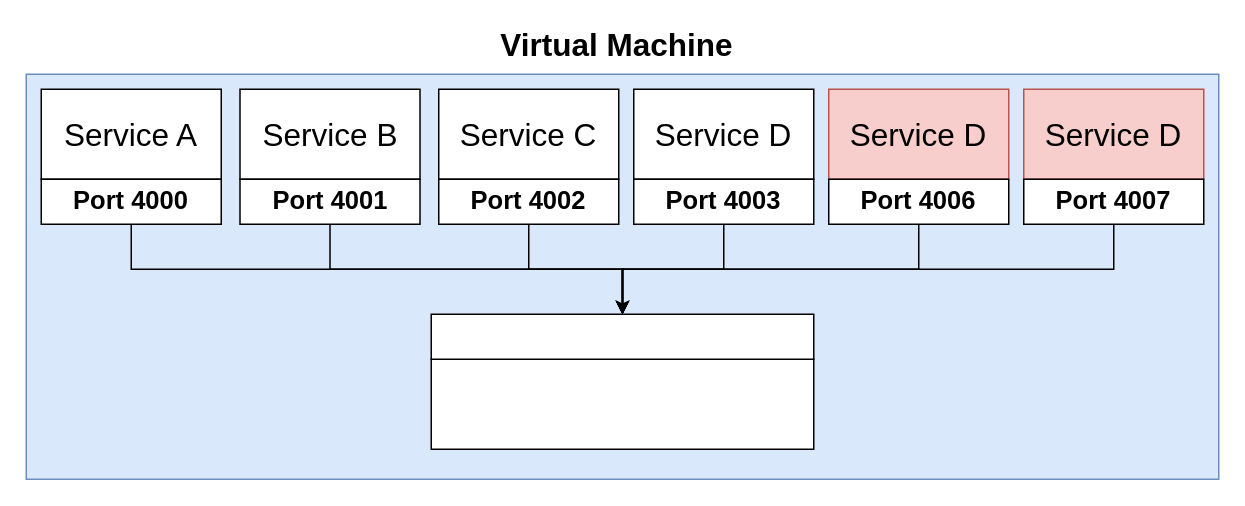
Some shapes in this 1245 by 506 pixel diagram are drawn without their labels. The box of each missing label's shape, as (x1, y1, x2, y2) in pixels:
Event Bus: (430, 358, 814, 449)
Port 4005: (430, 313, 814, 359)
